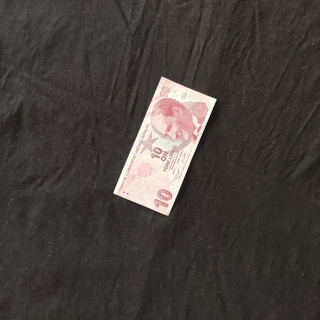10TLFront: (111, 75, 218, 217)
